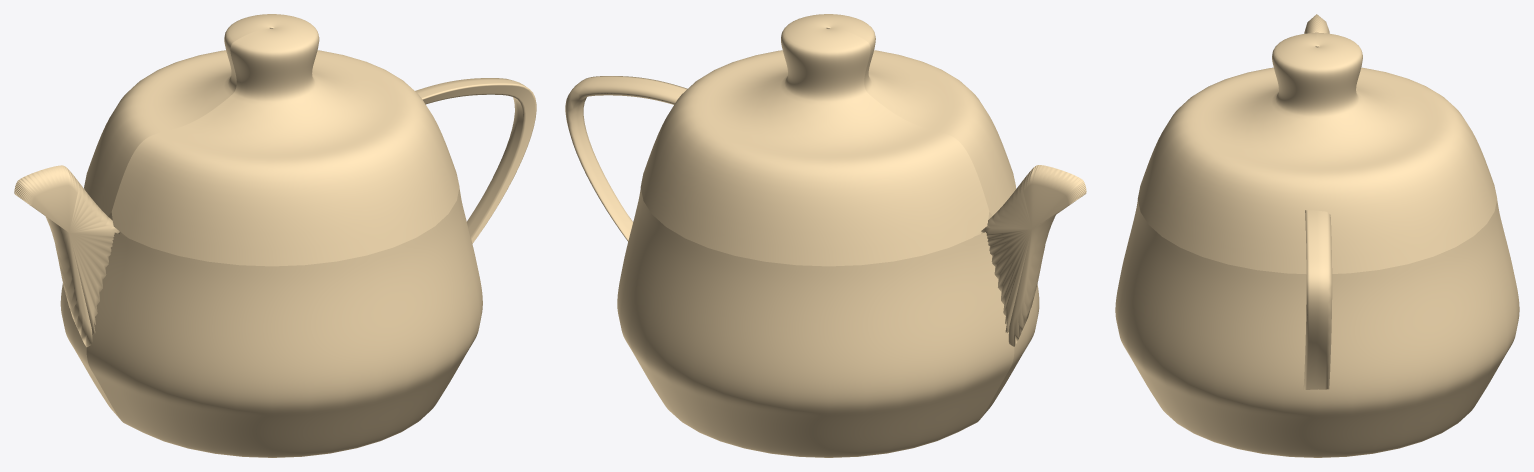
File: vasija.glb
3 views of the same model, side by side, from view 1: azimuth 30°, elevation 25°; view 2: azimuth 150°, elevation 25°; view 3: azimuth 270°, elevation 25° (orthographic). The views are drawn at different scales.
Parts seen in each view (by area): view 1: BezierCurve.001; view 2: BezierCurve.001; view 3: BezierCurve.001.
Boxes of the visible parts, left/top/right/bottom form: BezierCurve.001: left=14, top=14, right=536, bottom=457; BezierCurve.001: left=565, top=14, right=1086, bottom=457; BezierCurve.001: left=1115, top=14, right=1519, bottom=457.
Size of the model in its own units: 8.41 by 5.67 by 5.95.
